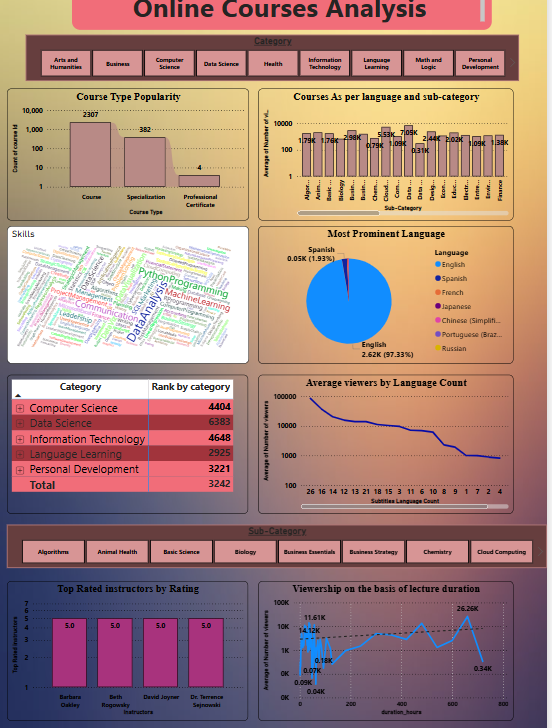

What the dashboard file says about the page in this screenshot:
{"tool":"powerbi","page":{"name":"Page 1","canvas":[1000,1800],"ordinal":0},"visuals":[{"type":"textbox","box":[137.1,8.6,762.9,88.6],"z":0},{"type":"slicer","title":"Category","fields":{"Values":["Online_Courses.Category"]},"box":[51.4,107.1,897.1,84.3],"z":1},{"type":"columnChart","title":"Course Type Popularity","fields":{"Category":["Online_Courses.Course Type"],"Y":["Online_Courses.course Id"]},"box":[17.1,204.3,440,240],"z":2},{"type":"clusteredColumnChart","title":"Courses As per language and sub-category","fields":{"Category":["Online_Courses.Sub-Category","Online_Courses.Language"],"Y":["Online_Courses.Number of viewers"]},"box":[475.7,204.3,464.3,240],"z":3},{"type":"WordCloud1447959067750","fields":{"Category":["Online_Courses.Skills"]},"box":[17.1,454.3,440,250],"z":4},{"type":"pieChart","title":"Most Prominent Language","fields":{"Category":["Online_Courses.Language"],"Y":["Online_Courses.course Id"]},"box":[475.7,454.3,464.3,250],"z":5},{"type":"pivotTable","fields":{"Rows":["Online_Courses.Category","Online_Courses.Language"],"Values":["Online_Courses.Rank by category"]},"box":[18.6,725.7,438.6,252.9],"z":6},{"type":"lineChart","title":"Average viewers by Language  Count","fields":{"Category":["Online_Courses.subtitles language"],"Y":["Online_Courses.Number of viewers"]},"box":[475.7,725.7,464.3,252.9],"z":7},{"type":"clusteredColumnChart","title":"Top Rated instructors by Rating","fields":{"Category":["teachers.Instructors"],"Y":["teachers.Top Rated instructors"]},"box":[18.6,1100,438.6,254.3],"z":8},{"type":"slicer","title":"Sub-Category","fields":{"Values":["Online_Courses.Sub-Category"]},"box":[18.6,998.6,981.4,78.6],"z":9},{"type":"lineChart","title":"Viewership on the basis of lecture duration","fields":{"Category":["Online_Courses.duration_hours"],"Y":["Online_Courses.Number of viewers"]},"box":[475.7,1100,464.3,254.3],"z":10},{"type":"pivotTable","fields":{"Rows":["Online_Courses.Category","Online_Courses.Sub-Category"],"Values":["Online_Courses.duration_hours","Online_Courses.count of skills"]},"box":[170,1377.1,610,292.9],"z":11}]}

Visuals, with their boxes on the page's 1000x1800 design canvas (x1, y1, x2, y2). These are canvas units, not pixel positions in the 552x728 screenshot, which may show the page scaled, cropped or inside an application window:
textbox: [137,9,900,97]
"Category" slicer: [51,107,948,191]
"Course Type Popularity" columnChart: [17,204,457,444]
"Courses As per language and sub-category" clusteredColumnChart: [476,204,940,444]
WordCloud1447959067750 - Online_Courses.Skills: [17,454,457,704]
"Most Prominent Language" pieChart: [476,454,940,704]
pivotTable - Online_Courses.Category x Online_Courses.Language: [19,726,457,979]
"Average viewers by Language  Count" lineChart: [476,726,940,979]
"Top Rated instructors by Rating" clusteredColumnChart: [19,1100,457,1354]
"Sub-Category" slicer: [19,999,1000,1077]
"Viewership on the basis of lecture duration" lineChart: [476,1100,940,1354]
pivotTable - Online_Courses.Category x Online_Courses.Sub-Category: [170,1377,780,1670]
